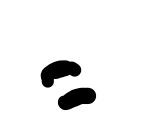eqv: (41, 60, 96, 110)
